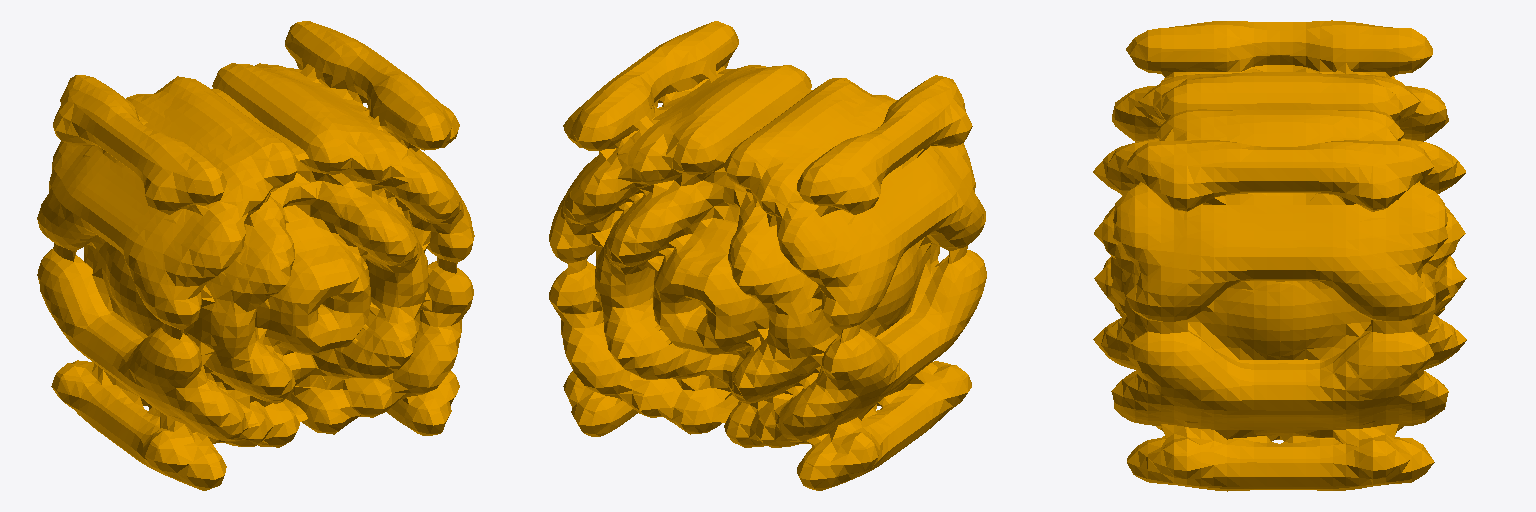
URDF robot description (G23_0):
<?xml version="1.0"?>
<robot name="G23_0">
  <link name="base_link">
    <visual>
      <geometry>
        <mesh filename="../../../../meshes/egad/train/G23_0.obj" />
      </geometry>
    </visual>
  </link>
</robot>

--- What the picture shows (computed from the rendered views, not written in the file) ---
Views: 3 orthographic renders of the robot side by side, from view 1: azimuth 30°, elevation 25°; view 2: azimuth 150°, elevation 25°; view 3: azimuth 270°, elevation 25°.
Model G23_0 with 1 links and 0 joints (none), rooted at base_link, posed all joints at 0.
Visible links, largest first — view 1: base_link; view 2: base_link; view 3: base_link.
Boxes of the visible links, box(x1,y1,x2,y2) form: base_link: box(37, 21, 474, 490); base_link: box(549, 21, 986, 490); base_link: box(1093, 20, 1466, 491).
Bounding box of the posed robot: 0.062 × 0.06 × 0.061 m (x, y, z).
Meshes: 1 distinct files referenced, 1 mesh visuals loaded (1 OBJ).